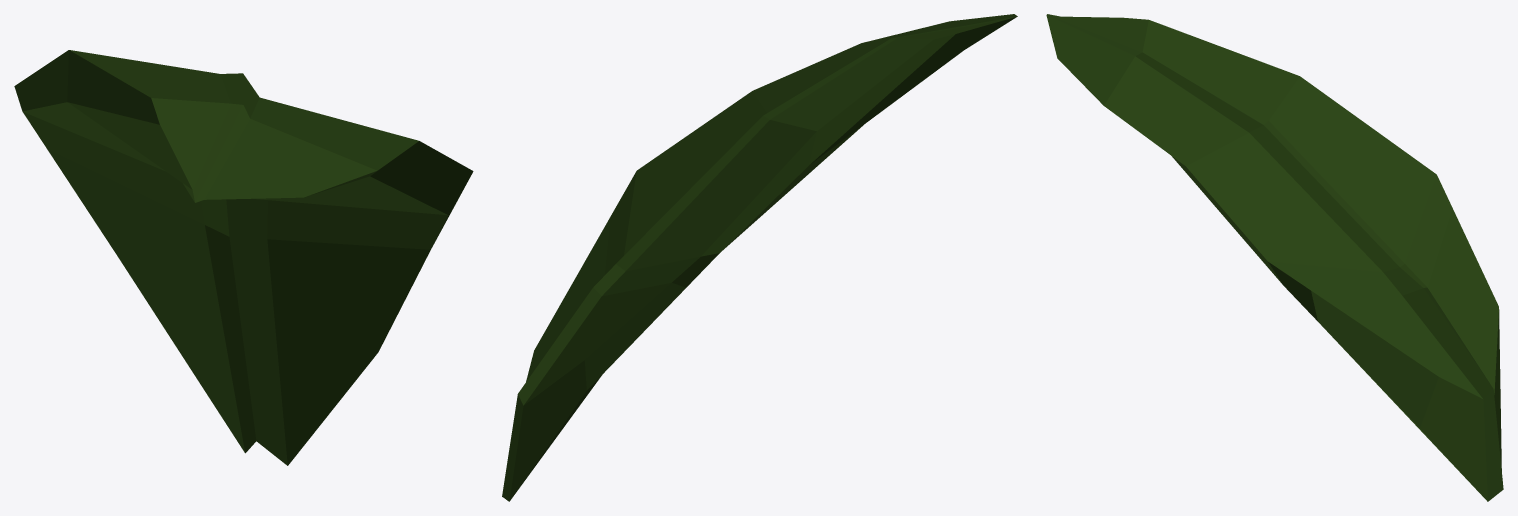
Rendered from Daisy_Leaf_R.fbx.
3 views of the same model, side by side, from view 1: azimuth 30°, elevation 25°; view 2: azimuth 150°, elevation 25°; view 3: azimuth 270°, elevation 25° (orthographic). The views are drawn at different scales.
Visible parts, largest first — view 1: Leaf_R; view 2: Leaf_R; view 3: Leaf_R.
Part boxes in pixels (x1,y1,x2,y2): Leaf_R: [14, 50, 473, 465]; Leaf_R: [502, 14, 1017, 501]; Leaf_R: [1046, 14, 1503, 501].
Size of the model in its own units: 190 by 239 by 270.
